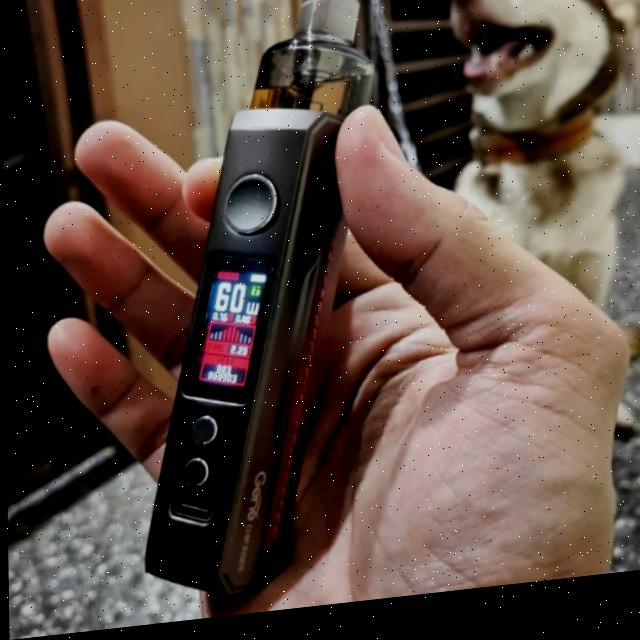vape: (134, 0, 381, 611)
